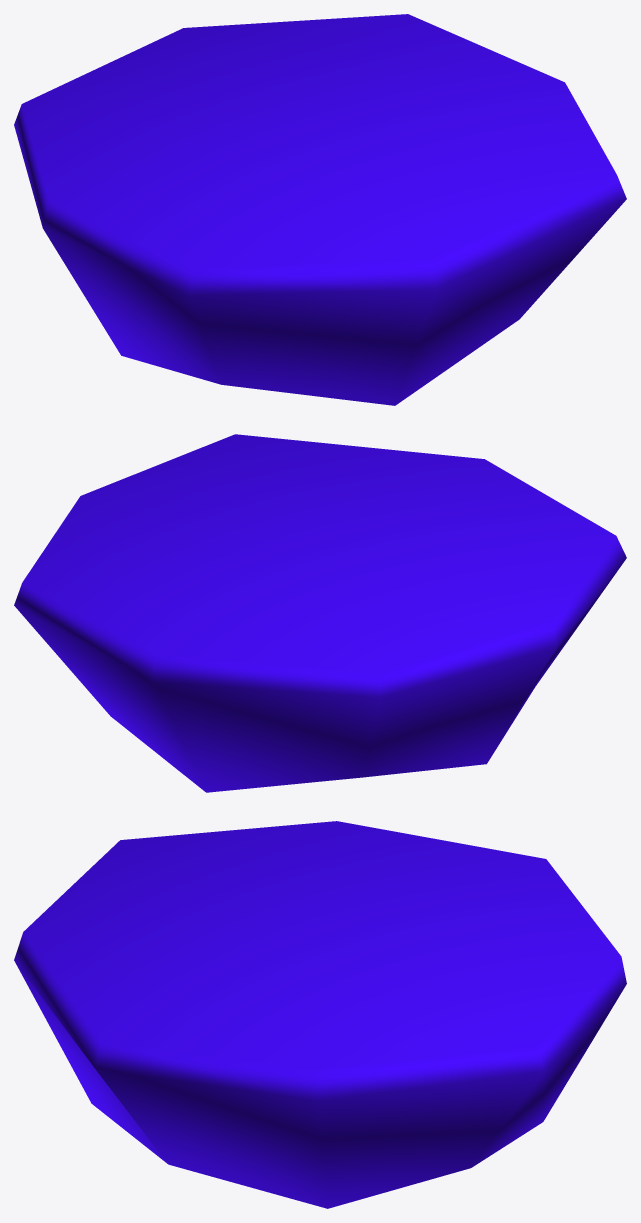
Rendered from InvisibleNaturePlatform_02.fbx.
The picture shows the model from 3 angles, top to bottom: view 1: azimuth 30°, elevation 25°; view 2: azimuth 150°, elevation 25°; view 3: azimuth 270°, elevation 25°; orthographic projection. The views are drawn at different scales.
Visible parts, largest first — view 1: InvisibleNaturePlatform_02; view 2: InvisibleNaturePlatform_02; view 3: InvisibleNaturePlatform_02.
Boxes of the visible parts, x1,y1,x2,y2 form: InvisibleNaturePlatform_02: (14,14,626,405); InvisibleNaturePlatform_02: (14,434,626,792); InvisibleNaturePlatform_02: (14,821,626,1208).
Size of the model in its own units: 2935 by 1232 by 2984.
